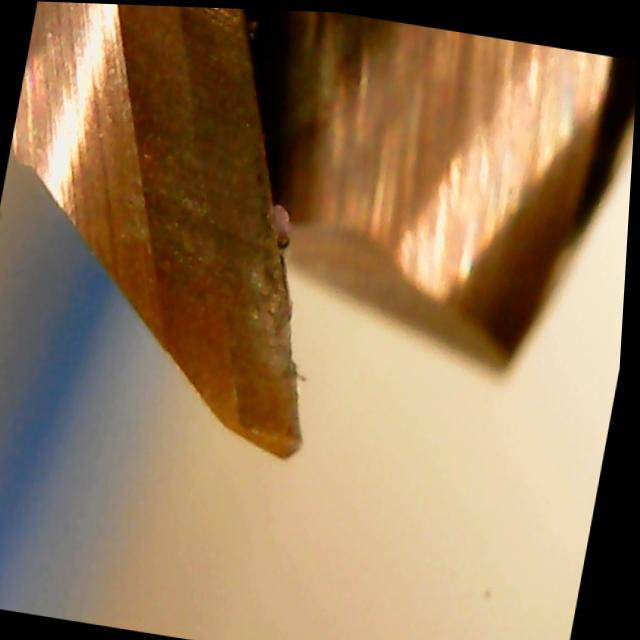Tool-wear-class-1: (165, 276, 355, 471)
